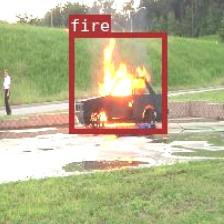fire: (69, 32, 166, 132)
